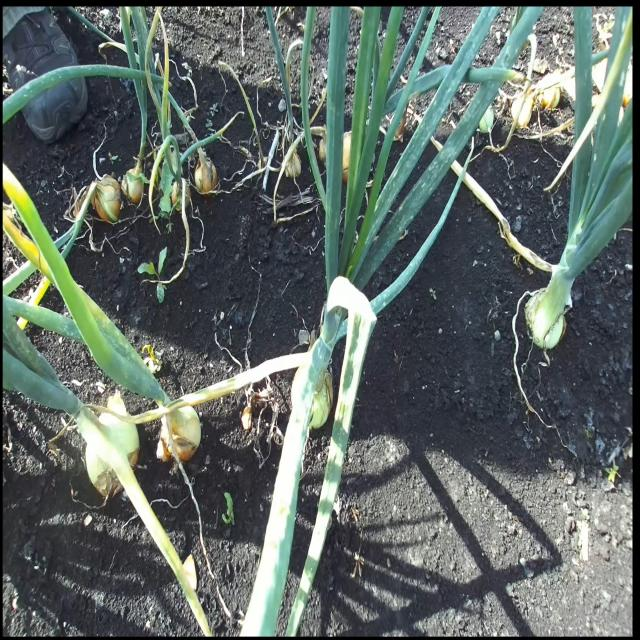onion: (76, 404, 140, 500), (157, 402, 201, 464), (308, 369, 334, 431), (92, 173, 122, 224), (120, 157, 148, 206), (194, 152, 218, 196), (170, 178, 191, 212)
